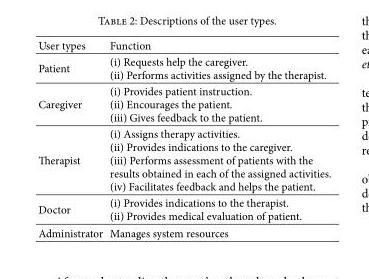table: (37, 37, 330, 240)
table column: (105, 37, 330, 240), (37, 37, 105, 240)
table column header: (37, 37, 330, 53)
table row: (37, 125, 330, 194), (37, 82, 330, 125), (37, 194, 330, 224), (37, 53, 330, 82), (37, 37, 330, 53), (37, 224, 330, 240)
